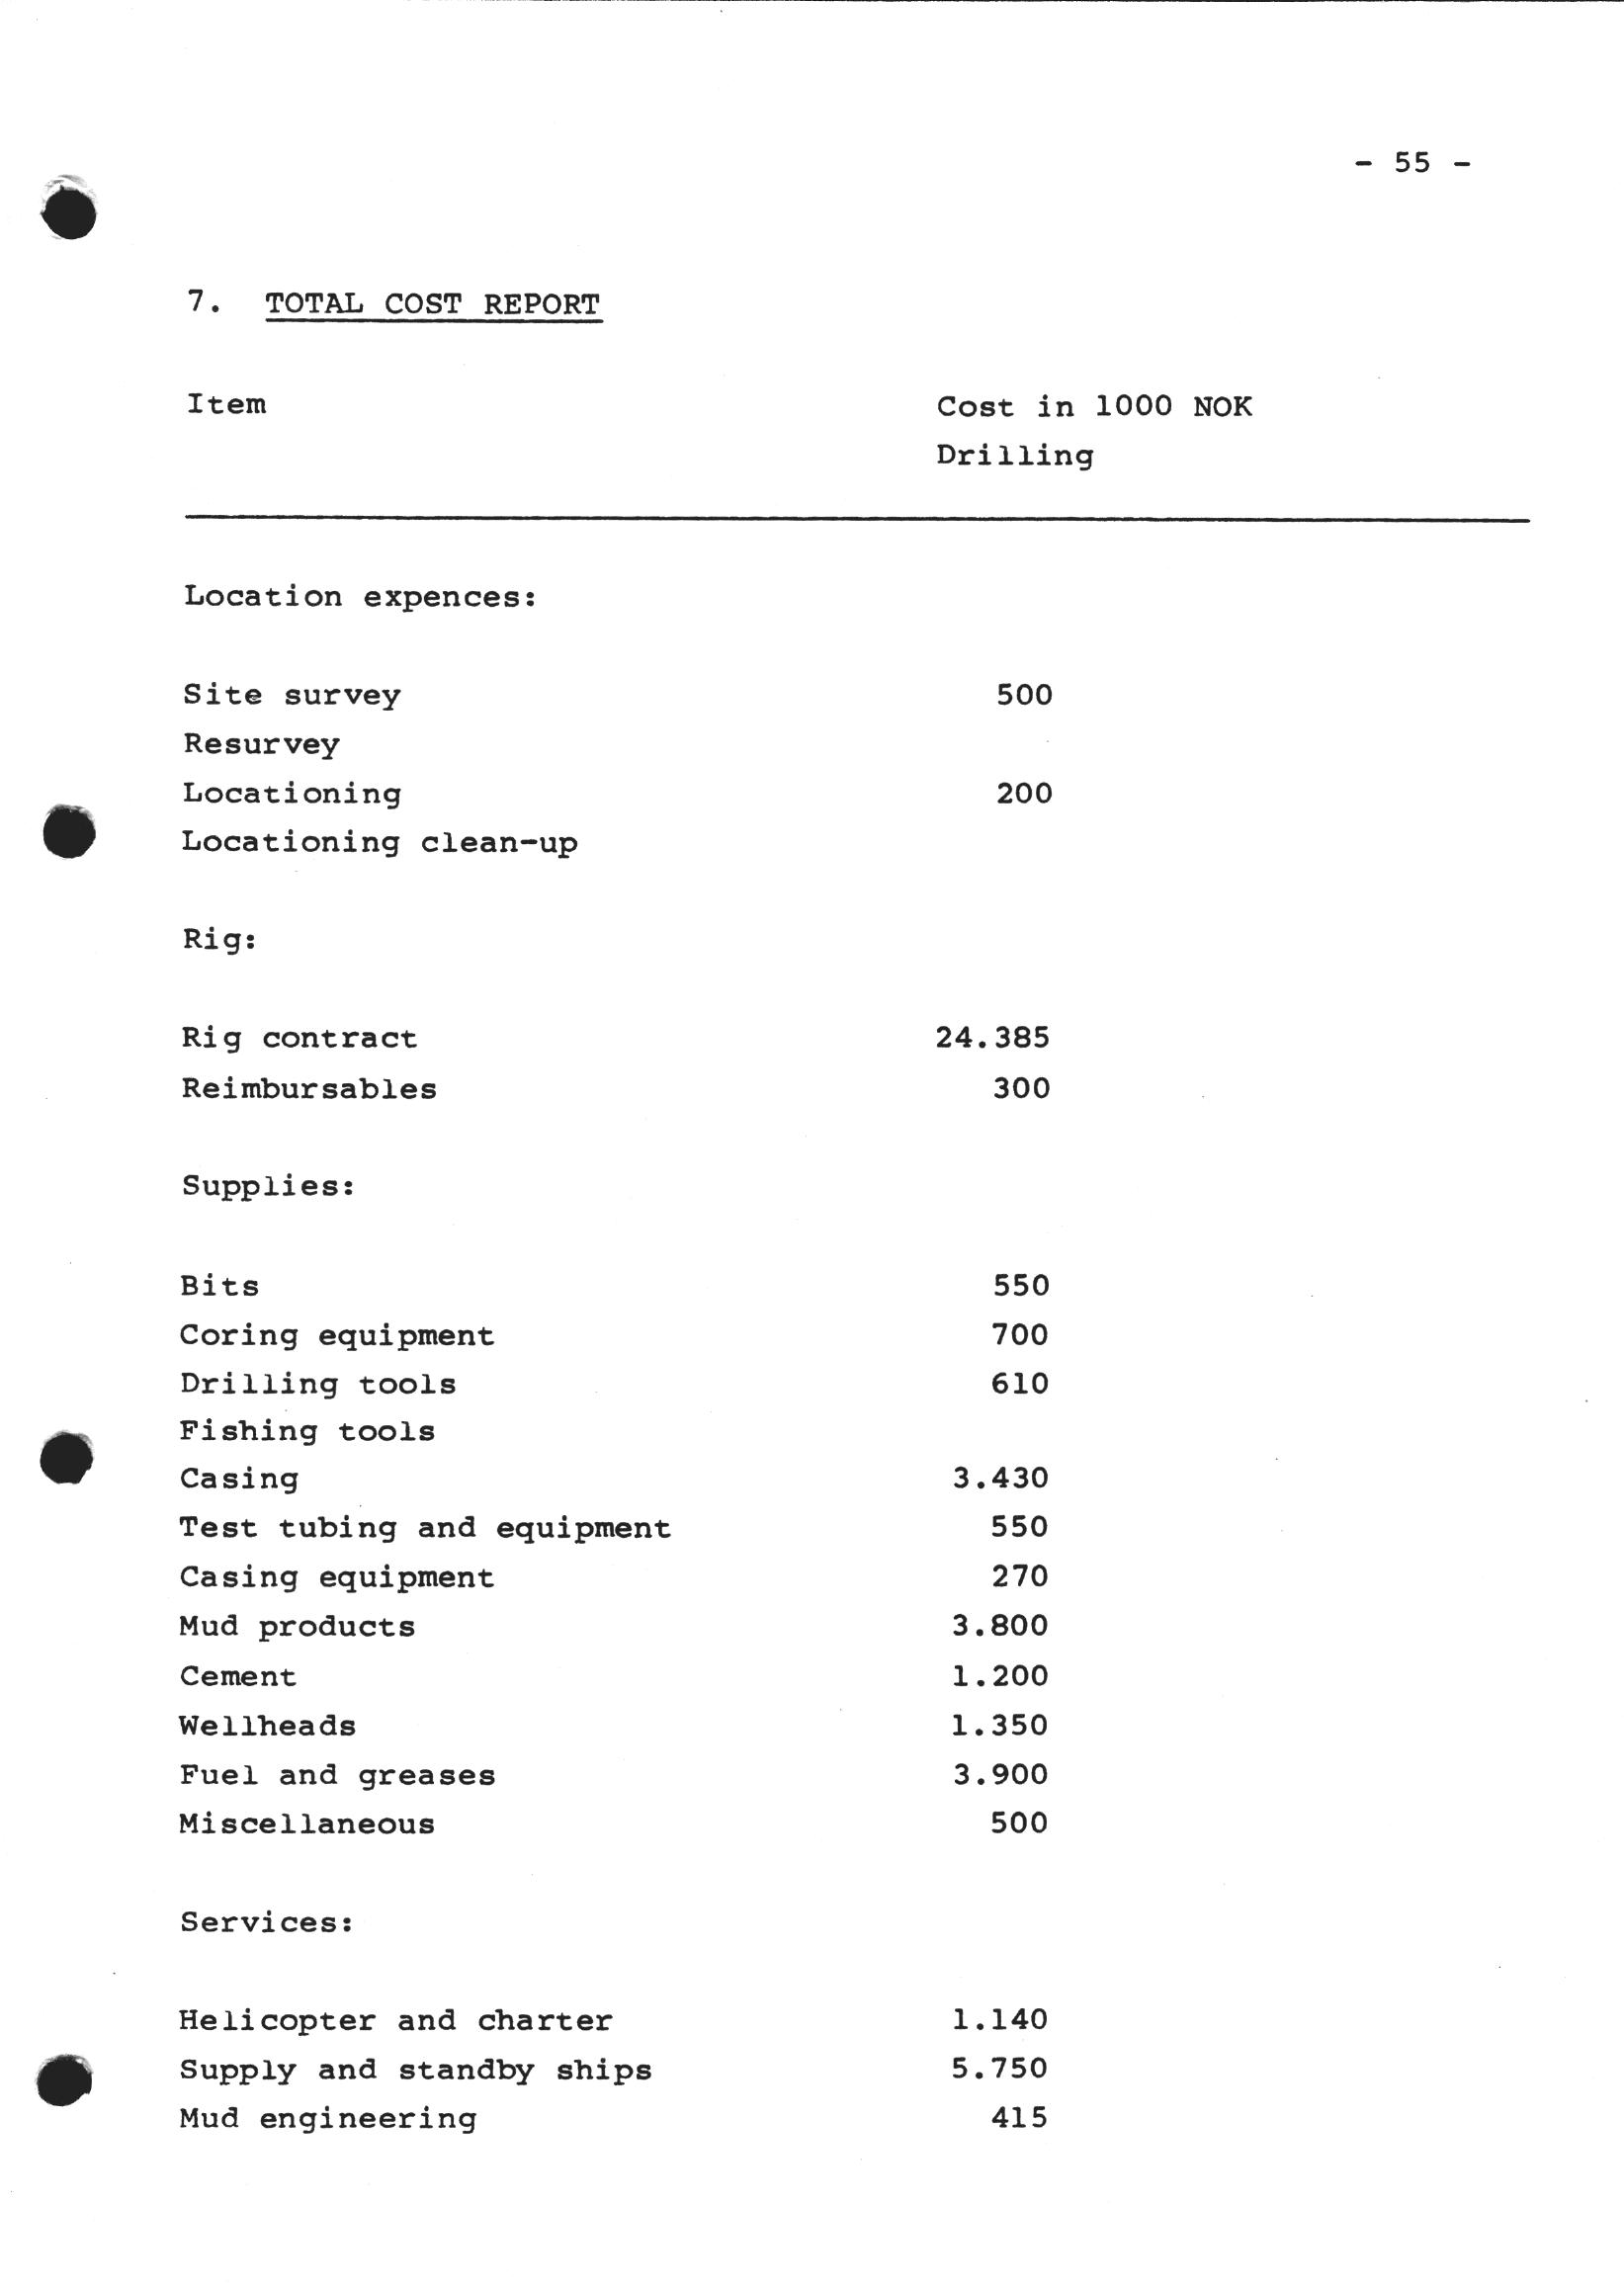table: (149, 255, 1547, 2165)
